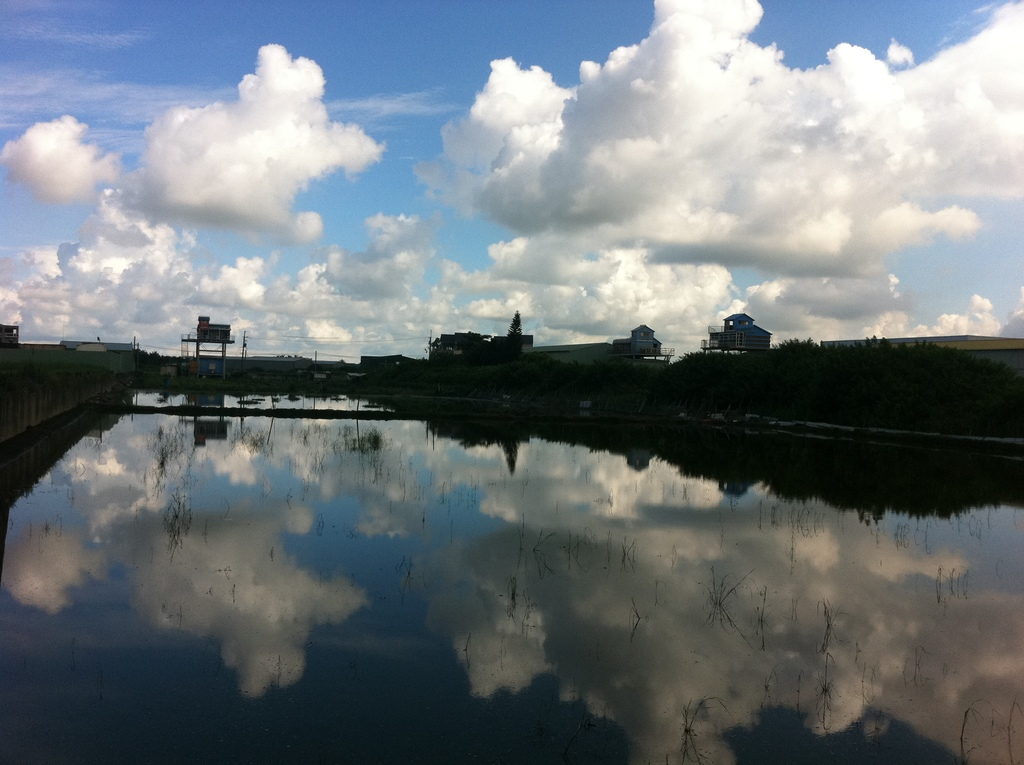Tree: (474, 331, 1023, 438), (135, 348, 168, 376), (504, 308, 522, 353)
